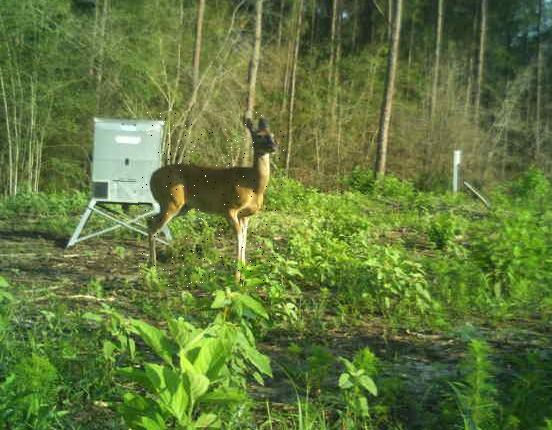Deer: (139, 112, 285, 289)
